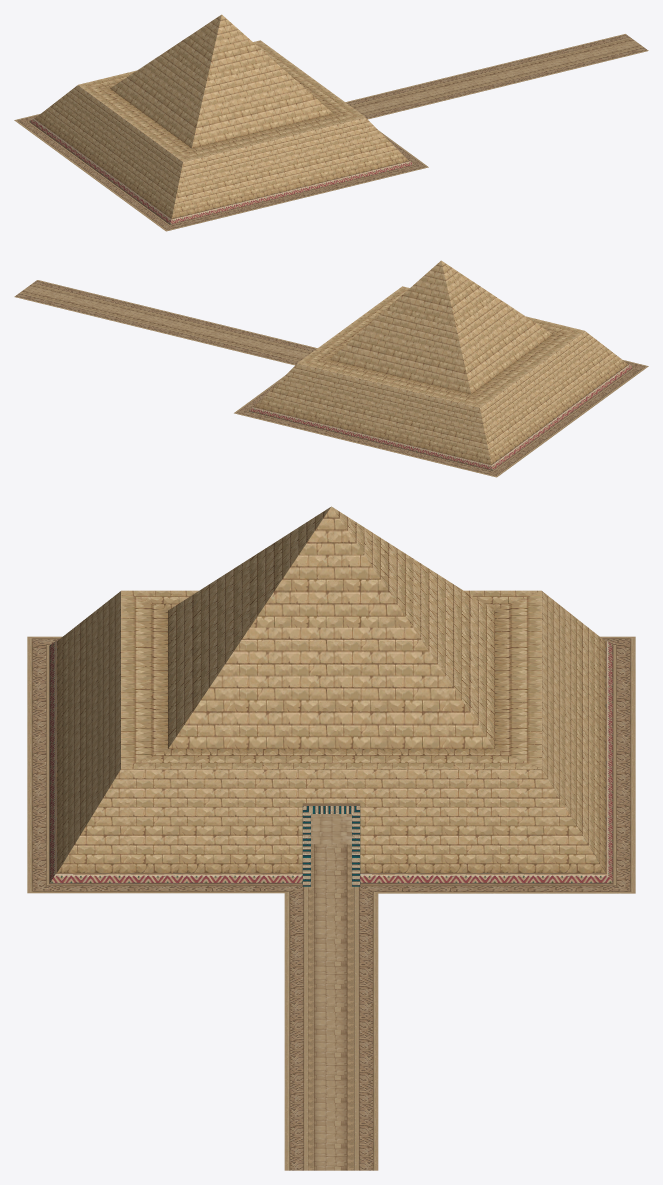
File: house_0130005.FBX
The picture shows the model from 3 angles, top to bottom: view 1: azimuth 30°, elevation 25°; view 2: azimuth 150°, elevation 25°; view 3: azimuth 270°, elevation 25°; orthographic projection. The views are drawn at different scales.
Parts seen in each view (by area): view 1: house_0130005_floor_201_00, house_0130005_outwall_100_04, house_0130005_floor_100_00, house_0130005_outwall_100_03, house_0130005_tcx_100_04, house_0130005_tcx_100_03; view 2: house_0130005_floor_201_00, house_0130005_outwall_100_02, house_0130005_floor_100_00, house_0130005_outwall_100_03, house_0130005_tcx_100_02, house_0130005_tcx_100_03; view 3: house_0130005_floor_201_00, house_0130005_outwall_100_01, house_0130005_floor_100_00, house_0130005_outwall_100_02, house_0130005_outwall_100_04, house_0130005_tcx_100_01, house_0130005_floor_101_00, house_0130005_tcx_100_02, house_0130005_tcx_100_04.
Part boxes in pixels (left/top/right/bottom): house_0130005_floor_201_00: left=78, top=14, right=365, bottom=161; house_0130005_outwall_100_04: left=171, top=117, right=408, bottom=218; house_0130005_floor_100_00: left=14, top=34, right=648, bottom=231; house_0130005_outwall_100_03: left=35, top=85, right=182, bottom=218; house_0130005_tcx_100_04: left=170, top=161, right=414, bottom=224; house_0130005_tcx_100_03: left=29, top=118, right=171, bottom=224; house_0130005_floor_201_00: left=297, top=260, right=584, bottom=407; house_0130005_outwall_100_02: left=254, top=363, right=491, bottom=464; house_0130005_floor_100_00: left=14, top=280, right=648, bottom=477; house_0130005_outwall_100_03: left=480, top=331, right=627, bottom=464; house_0130005_tcx_100_02: left=248, top=407, right=492, bottom=470; house_0130005_tcx_100_03: left=491, top=364, right=633, bottom=470; house_0130005_floor_201_00: left=121, top=506, right=541, bottom=768; house_0130005_outwall_100_01: left=57, top=769, right=605, bottom=875; house_0130005_floor_100_00: left=27, top=636, right=635, bottom=1170; house_0130005_outwall_100_02: left=541, top=591, right=605, bottom=872; house_0130005_outwall_100_04: left=57, top=591, right=120, bottom=871; house_0130005_tcx_100_01: left=49, top=873, right=613, bottom=886; house_0130005_floor_101_00: left=311, top=814, right=351, bottom=883; house_0130005_tcx_100_02: left=605, top=641, right=613, bottom=883; house_0130005_tcx_100_04: left=49, top=641, right=56, bottom=883.
Bounding box in the file's own units: 4319 × 976 × 2079.
24 materials, 24 textured.
